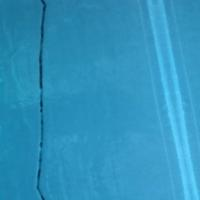crack: (26, 0, 87, 199)
